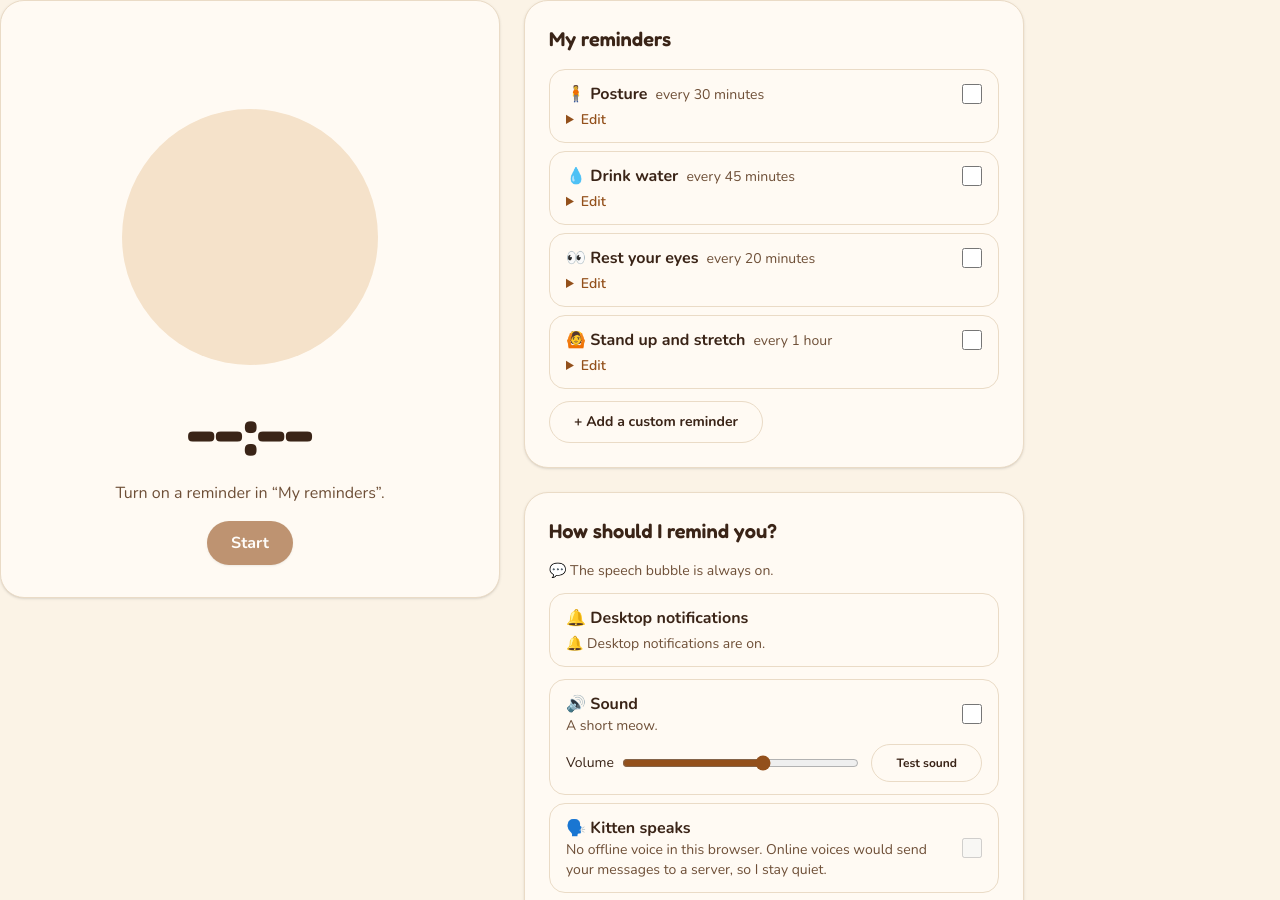
Test: editing reminders › adds, runs, and deletes a custom reminder
Earlier steps of the test are not shown.
Step 1. Click the button "+ Add a custom reminder" → (656, 422), box [549,401,763,443]
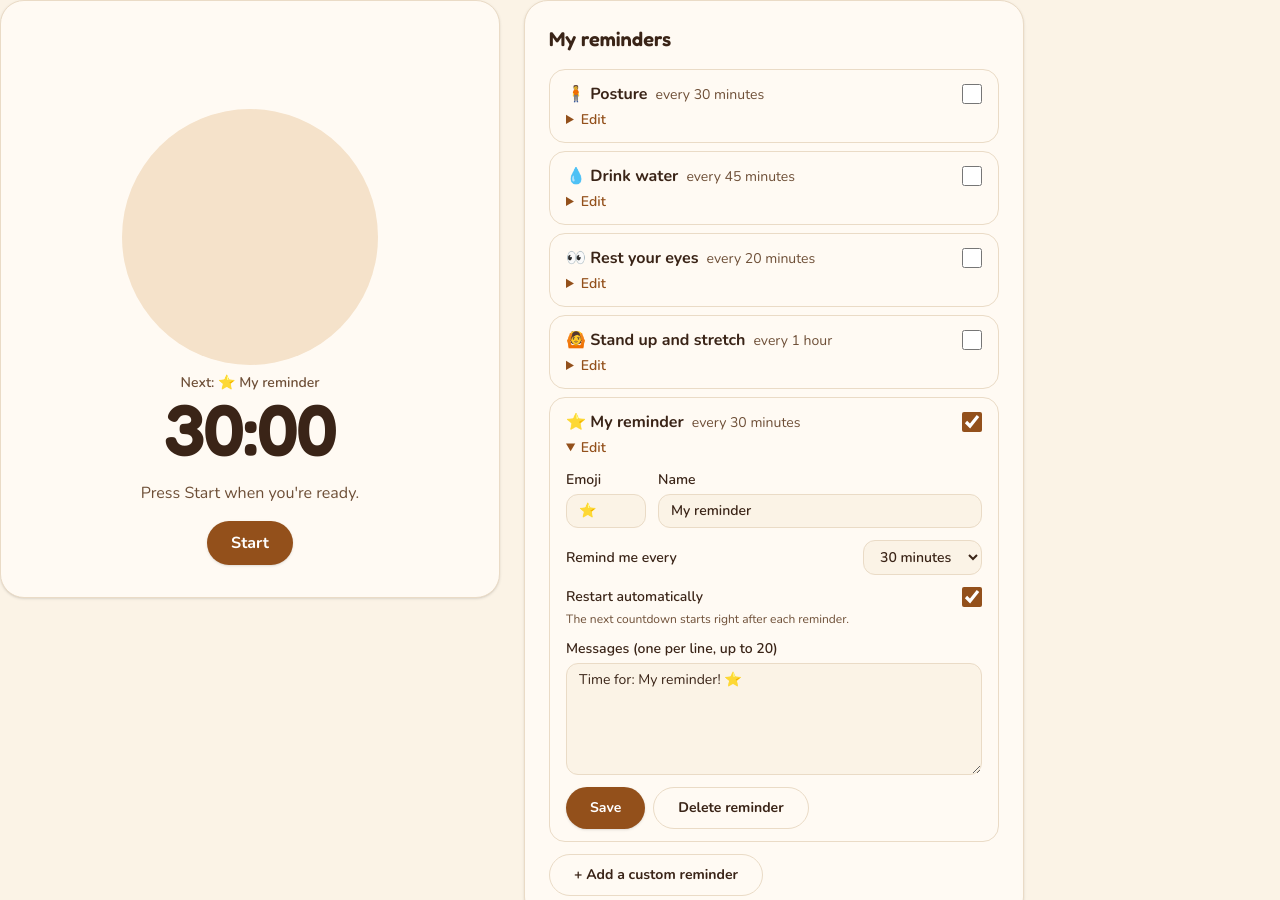
Step 2. Replace the text in the field labelled "Name" with "Call mom" → (820, 511), box [658,494,982,528]
Step 3. Replace the text in the field labelled "Emoji" with "📞" → (606, 511), box [566,494,646,528]
Step 4. Replace the text in the text box labelled "Messages (one per line, up to 20)" with "Ring ring!" → (774, 719), box [566,663,982,775]
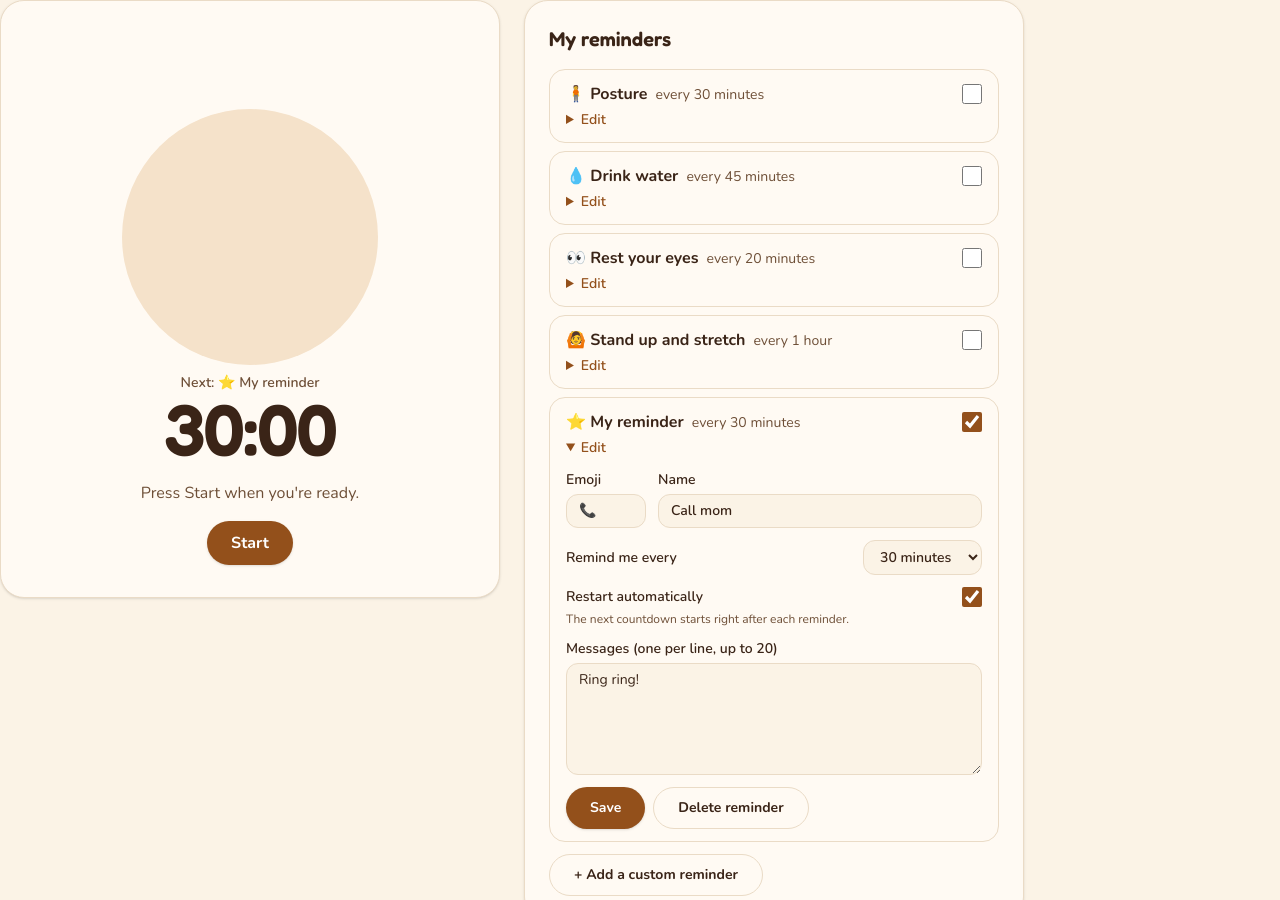
Step 5. Click the button "Save" → (606, 808), box [566,787,645,829]
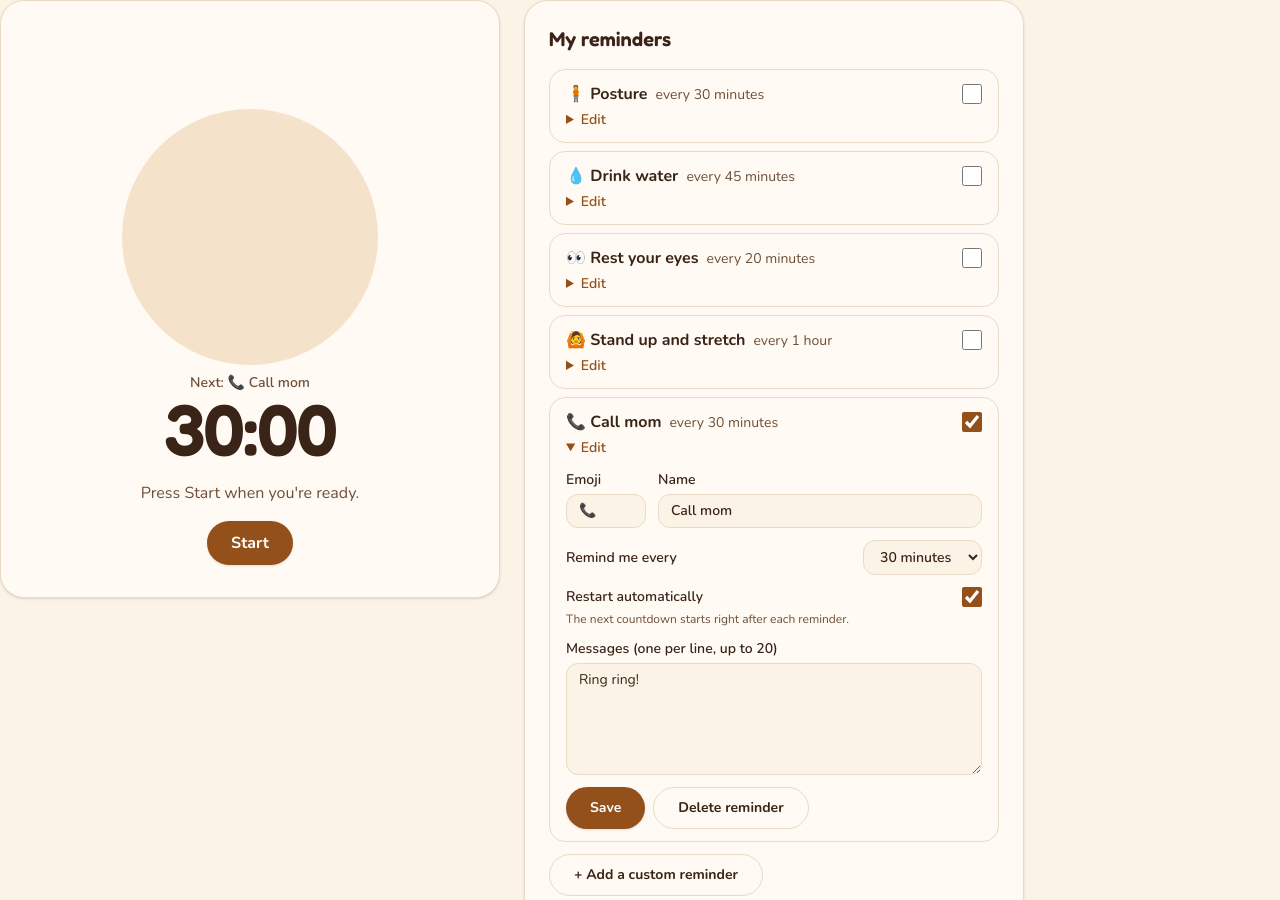
Step 6. Select "30 seconds" in the dropdown → (922, 558), box [863,540,982,575]
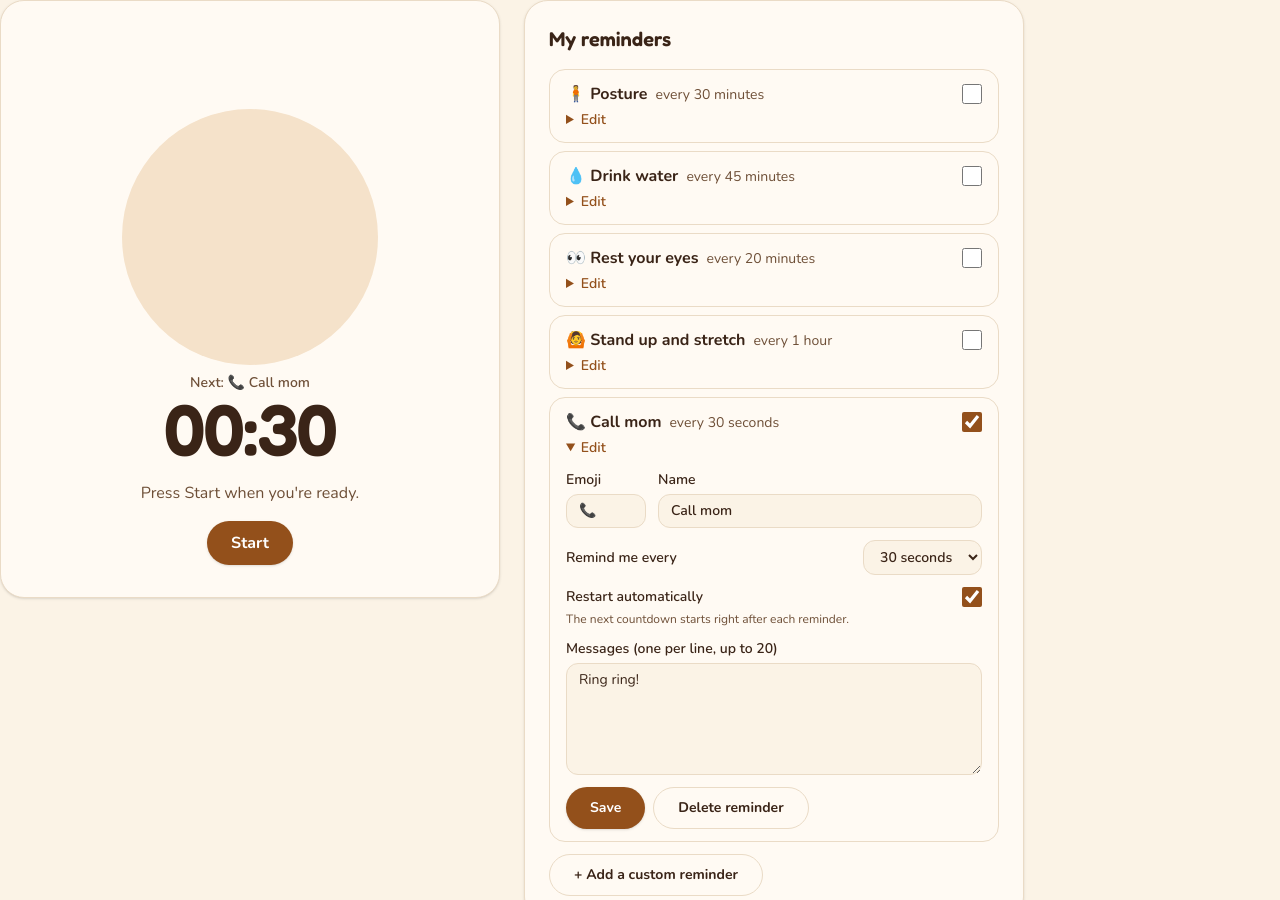
Step 7. Click the button "Start" → (250, 543), box [207,521,293,565]
Wait 30000 ms
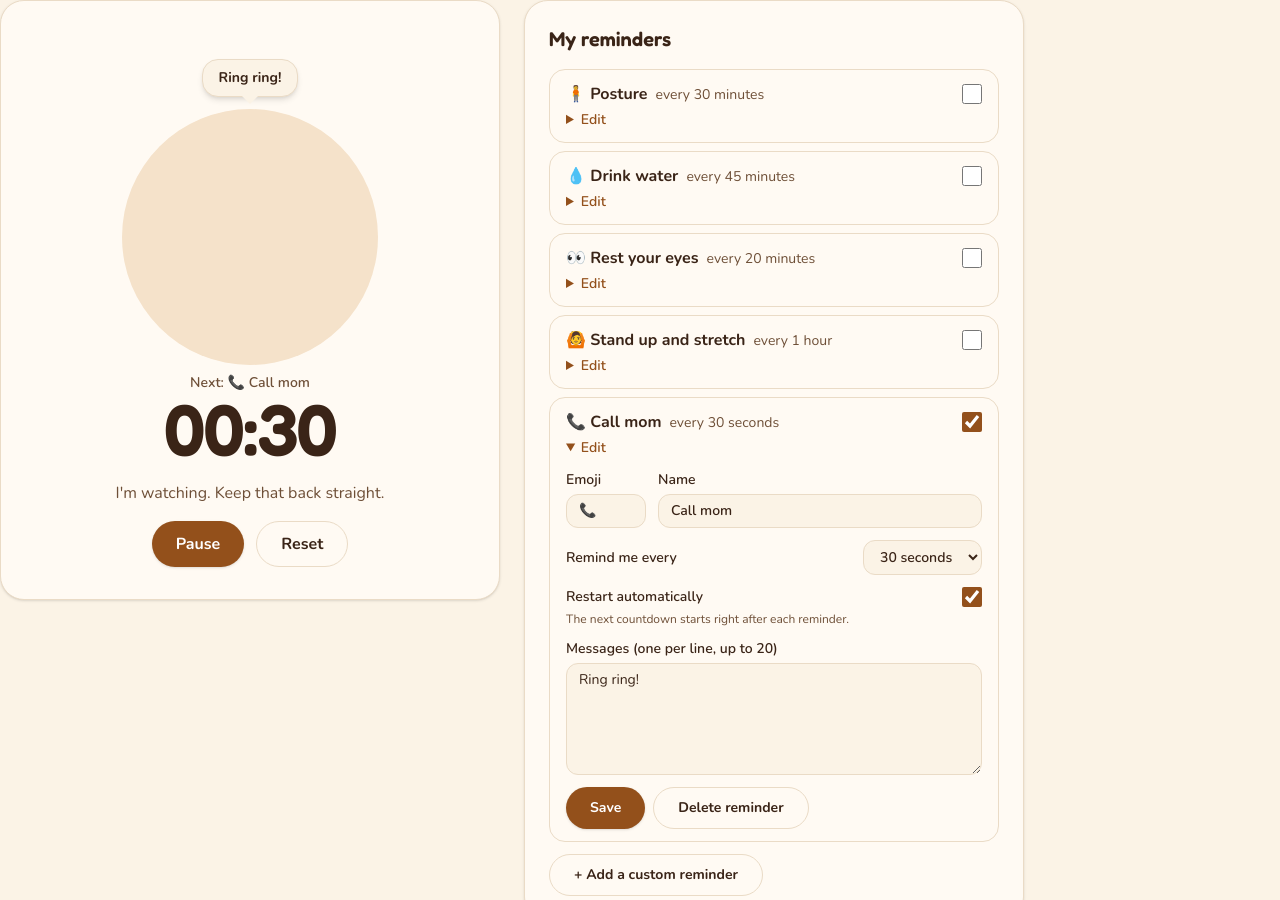
Result: the text with test id "speech-bubble" reads "Ring ring!" at [219,68,281,87]
Step 8. Click the button "Delete reminder" → (731, 808), box [653,787,809,829]
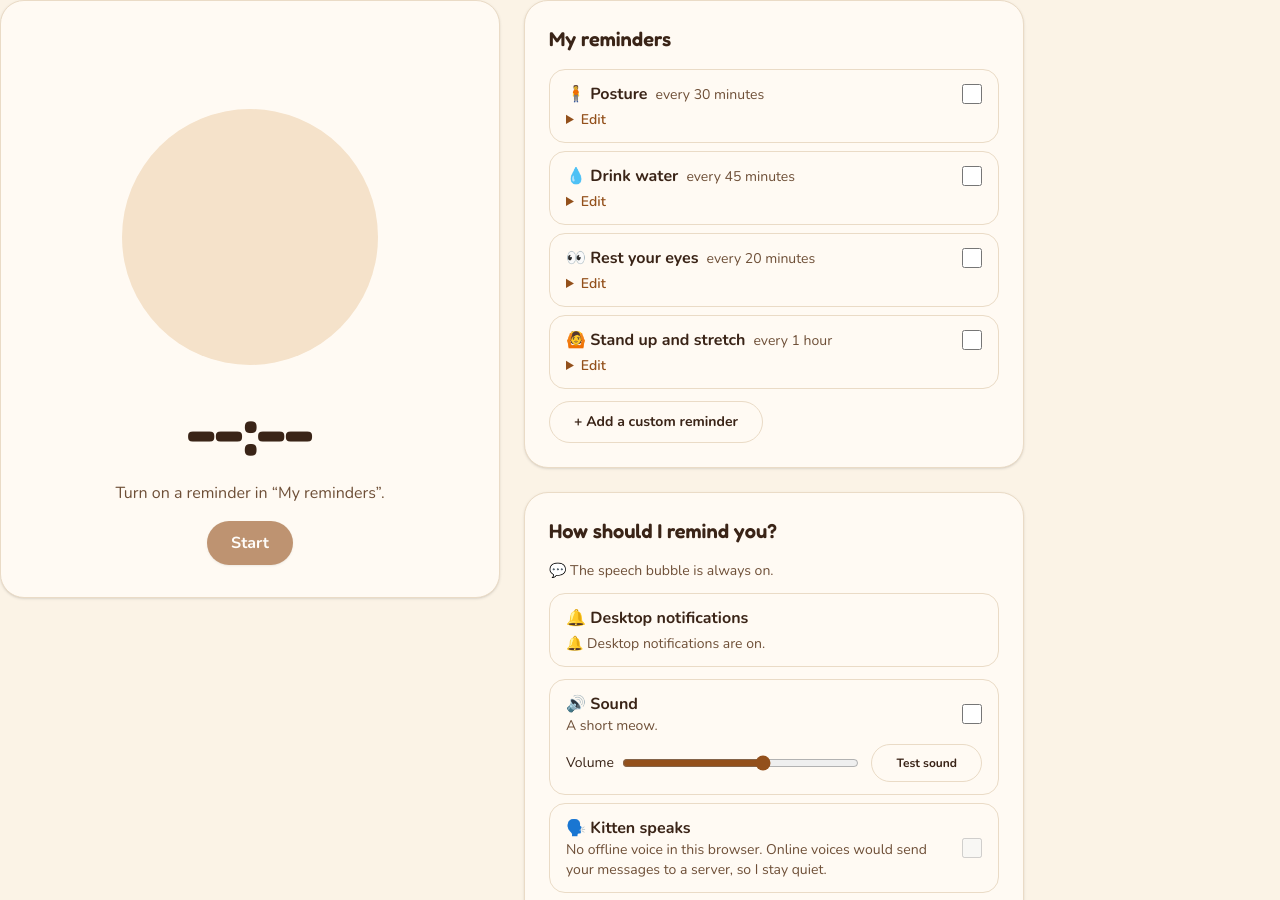
Result: the element "Call mom" is gone
